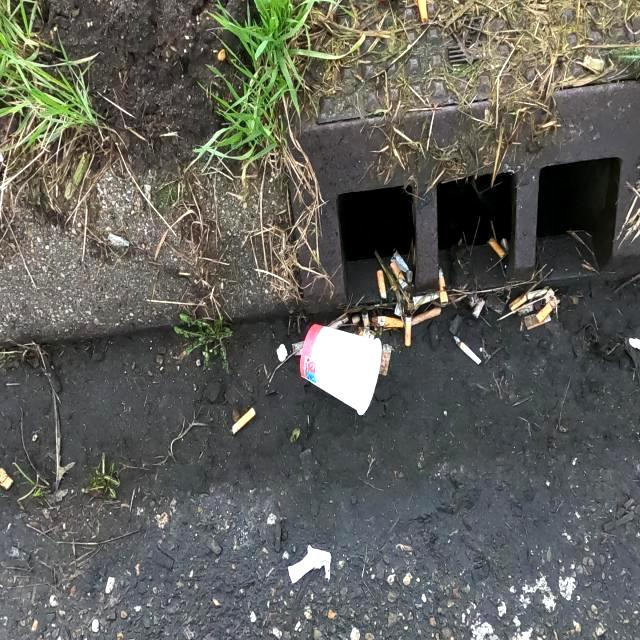Coffee Cup: (298, 322, 382, 416)
